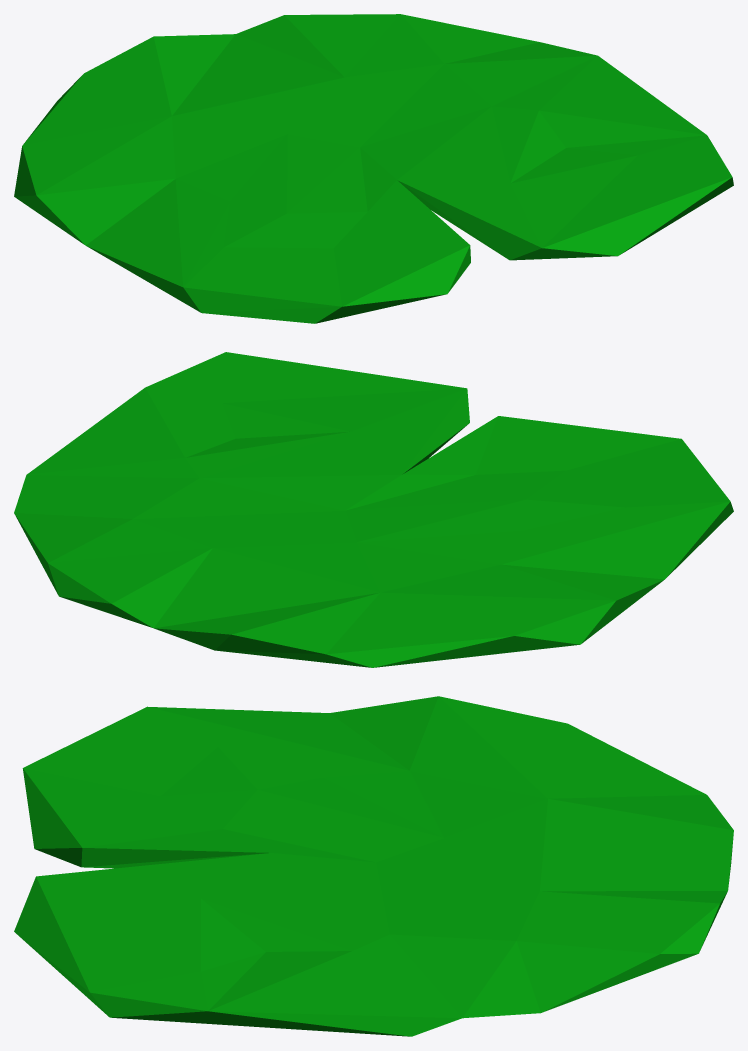
File: stm_env_LilyPad.fbx
The picture shows the model from 3 angles, top to bottom: view 1: azimuth 30°, elevation 25°; view 2: azimuth 150°, elevation 25°; view 3: azimuth 270°, elevation 25°; orthographic projection. The views are drawn at different scales.
Visible parts, largest first — view 1: Cube; view 2: Cube; view 3: Cube.
Part boxes in pixels (x1,y1,x2,y2): Cube: (14,14,733,323); Cube: (14,352,733,667); Cube: (14,696,733,1036).
Size of the model in its own units: 224 by 9.63 by 214.
